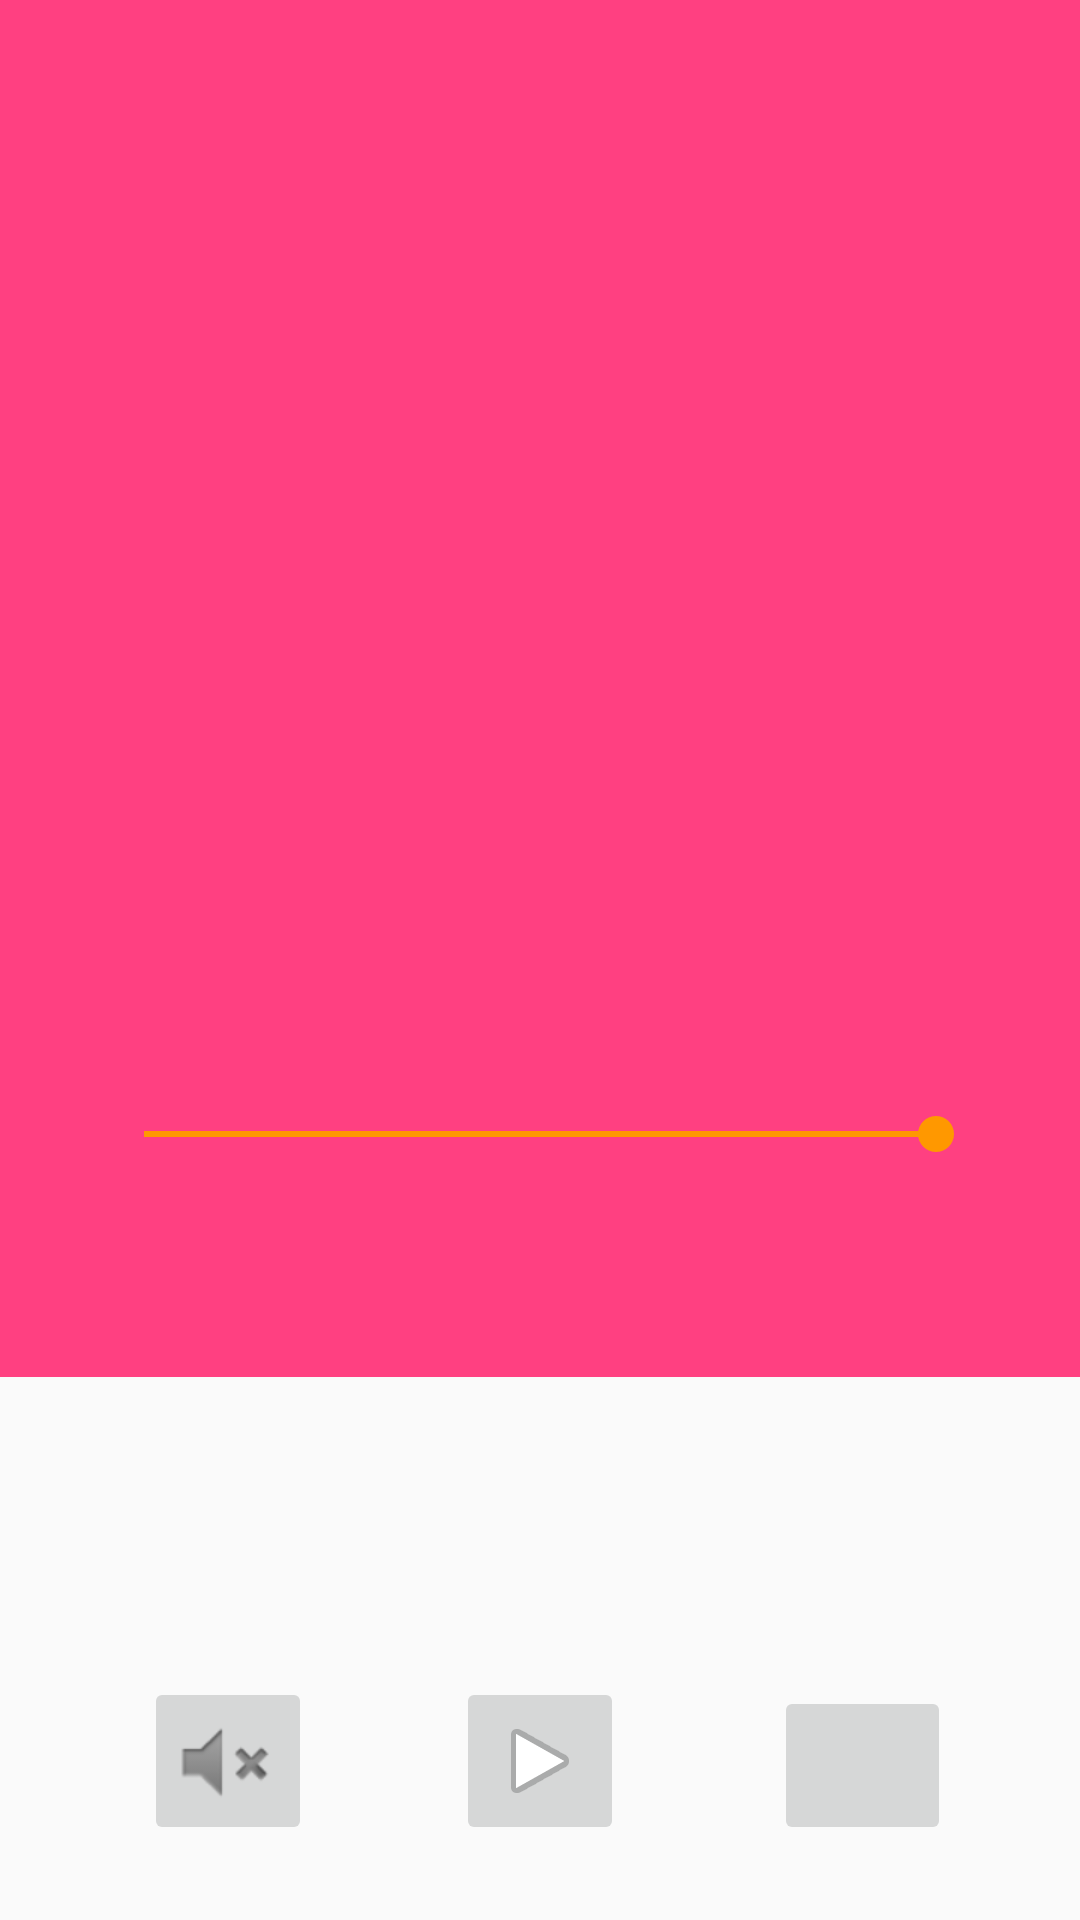

Icons on this 1080x1920 Android screen, each with its box as {"left": x1, "top": y1, "right": x2, "bottom": y2}:
lock silent mode: {"left": 156, "top": 1695, "right": 300, "bottom": 1827}
play: {"left": 468, "top": 1695, "right": 612, "bottom": 1827}
